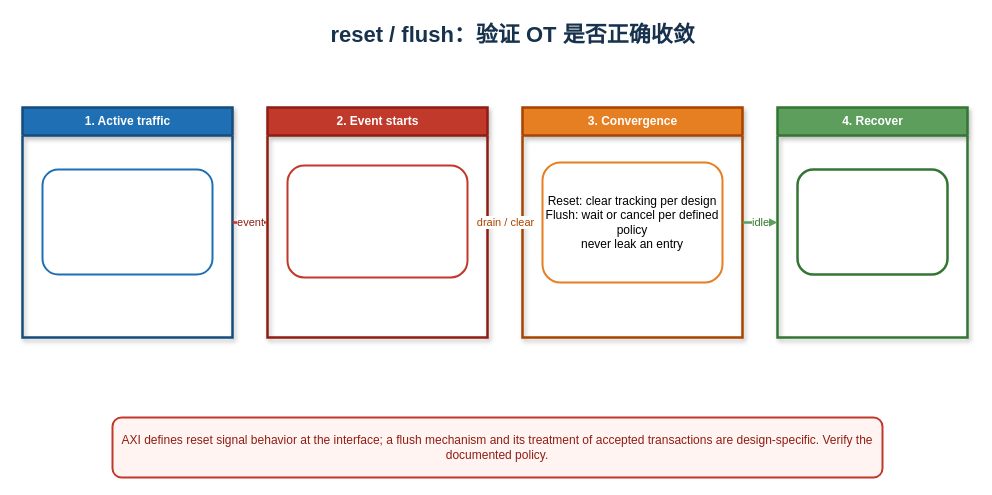
Some shapes in this 992 by 495 pixel diagram are drawn without their labels. The shapes that lost their labels are listed below. From the top down, each one's centre as x and y in pixels, then its label:
At pixel 127 221: "AW / AR handshakes accepted ot_count > 0 responses may still be pending".
At pixel 377 221: "ARESETn asserted or abstract flush request block / define new request policy".
At pixel 872 221: "ot_count = 0 new traffic can resume no stale ID remains".
